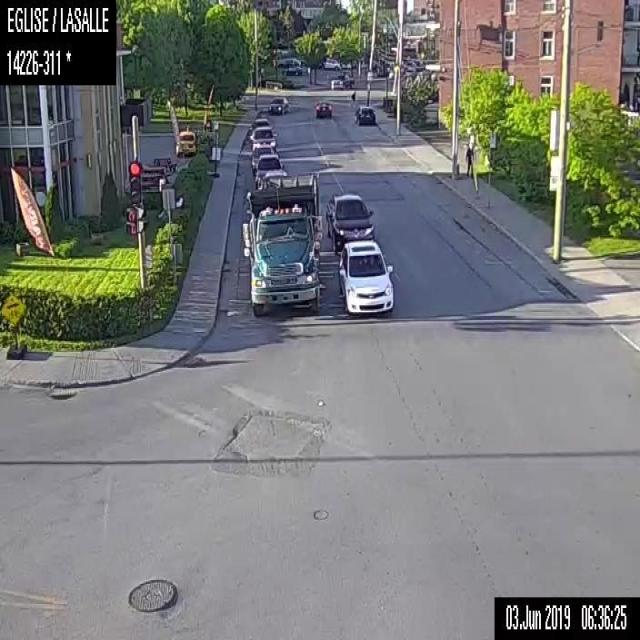pedestrian: (462, 140, 474, 176), (349, 86, 357, 106)
vehicle: (238, 168, 322, 319), (336, 240, 394, 312), (323, 191, 374, 253), (252, 153, 280, 187), (247, 125, 277, 152), (248, 143, 274, 166), (353, 104, 378, 125), (174, 128, 194, 154), (260, 169, 286, 186), (330, 71, 351, 89), (269, 95, 289, 113), (314, 100, 332, 117), (282, 63, 302, 74), (250, 117, 268, 127), (323, 57, 339, 68)
